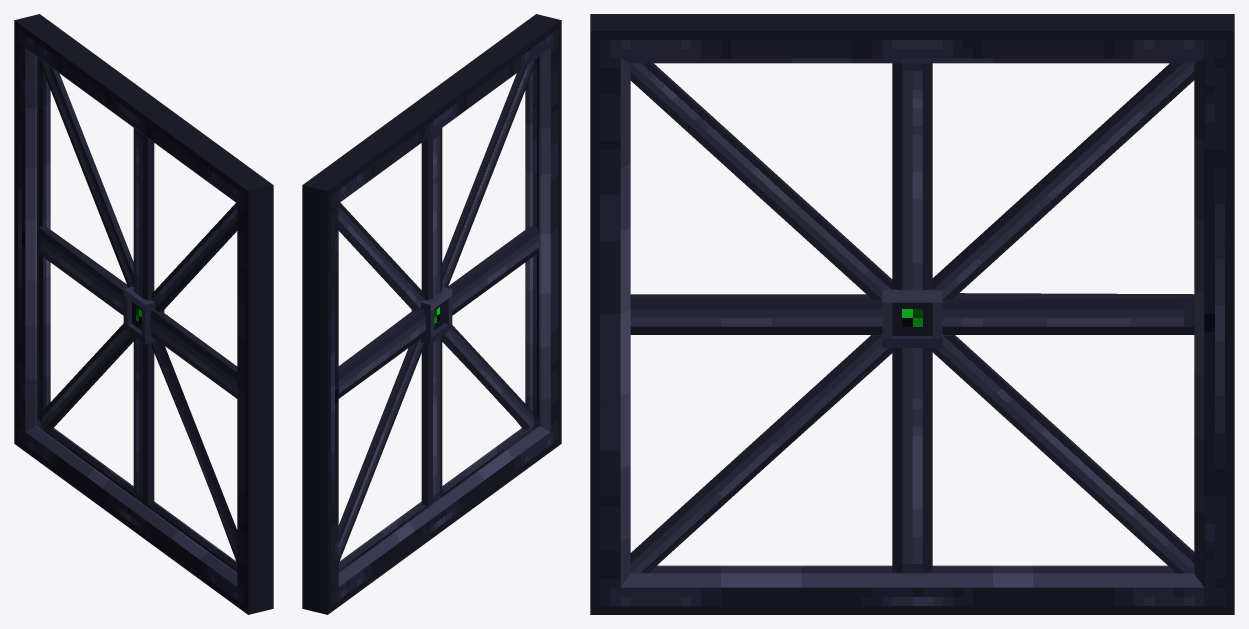
File: xdoor2.fbx
3 views of the same model, side by side, from view 1: azimuth 30°, elevation 25°; view 2: azimuth 150°, elevation 25°; view 3: azimuth 270°, elevation 25° (orthographic). The views are drawn at different scales.
Parts seen in each view (by area): view 1: door_x1.frame, door_x1.straightup, door_x1.straightdn, door_x1.diagne, door_x1.straightright.001, door_x1.straightleft, door_x1.diagsw, door_x1.diagse, door_x1.diagnw, door_x1.straightright; view 2: door_x1.frame, door_x1.straightup, door_x1.straightdn, door_x1.diagnw, door_x1.diagse, door_x1.straightright.001, door_x1.straightleft, door_x1.diagne, door_x1.diagsw, door_x1.straightright; view 3: door_x1.frame, door_x1.straightright.001, door_x1.straightleft, door_x1.diagne, door_x1.diagnw, door_x1.diagse, door_x1.straightup, door_x1.diagsw, door_x1.straightdn, door_x1.straightright.
Part boxes in pixels (x1=…): door_x1.frame: x1=14, y1=14, x2=273, y2=614; door_x1.straightup: x1=133, y1=128, x2=154, y2=300; door_x1.straightdn: x1=133, y1=336, x2=154, y2=505; door_x1.diagne: x1=41, y1=60, x2=133, y2=287; door_x1.straightright.001: x1=37, y1=225, x2=128, y2=315; door_x1.straightleft: x1=150, y1=309, x2=237, y2=398; door_x1.diagsw: x1=151, y1=339, x2=237, y2=563; door_x1.diagse: x1=41, y1=323, x2=133, y2=429; door_x1.diagnw: x1=151, y1=203, x2=237, y2=311; door_x1.straightright: x1=123, y1=286, x2=164, y2=344; door_x1.frame: x1=302, y1=14, x2=561, y2=614; door_x1.straightup: x1=421, y1=128, x2=442, y2=300; door_x1.straightdn: x1=421, y1=336, x2=442, y2=505; door_x1.diagnw: x1=442, y1=60, x2=534, y2=287; door_x1.diagse: x1=338, y1=339, x2=424, y2=562; door_x1.straightright.001: x1=338, y1=309, x2=425, y2=398; door_x1.straightleft: x1=448, y1=225, x2=538, y2=315; door_x1.diagne: x1=338, y1=202, x2=424, y2=311; door_x1.diagsw: x1=442, y1=325, x2=534, y2=429; door_x1.straightright: x1=411, y1=287, x2=452, y2=344; door_x1.frame: x1=590, y1=14, x2=1234, y2=614; door_x1.straightright.001: x1=942, y1=293, x2=1194, y2=334; door_x1.straightleft: x1=630, y1=294, x2=882, y2=334; door_x1.diagne: x1=932, y1=63, x2=1194, y2=299; door_x1.diagnw: x1=630, y1=63, x2=892, y2=299; door_x1.diagse: x1=932, y1=335, x2=1194, y2=573; door_x1.straightup: x1=892, y1=63, x2=932, y2=290; door_x1.diagsw: x1=630, y1=335, x2=892, y2=573; door_x1.straightdn: x1=892, y1=348, x2=932, y2=573; door_x1.straightright: x1=882, y1=289, x2=942, y2=347.
Size of the model in its own units: 16 by 256 by 256.
